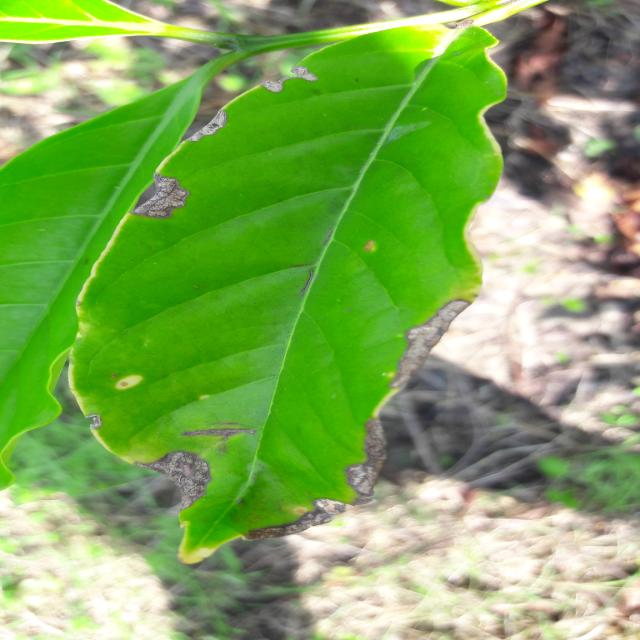Enfermedad-Roya: (64, 5, 526, 568)
